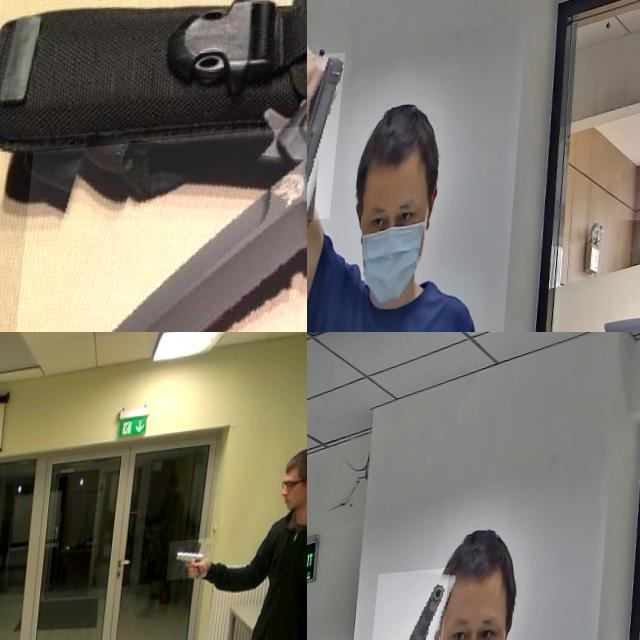-: (10, 130, 307, 332)
gun-knife-thesis - v11 Yolov5 augmented: (307, 58, 351, 229), (374, 574, 457, 640), (173, 549, 216, 591)
